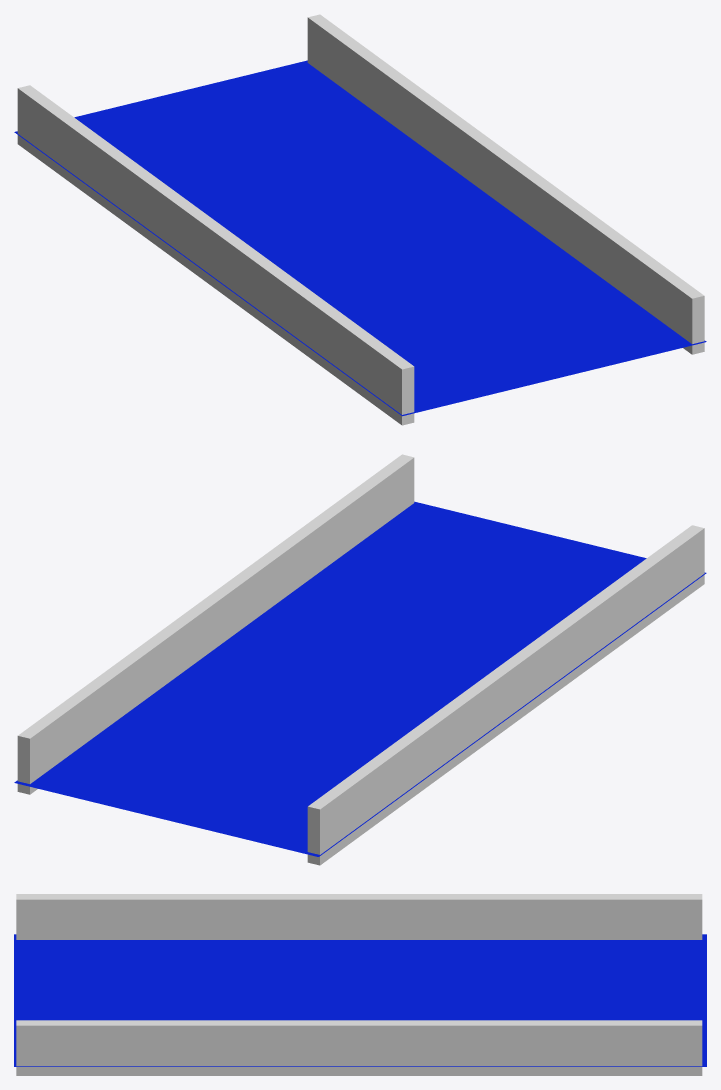
The model's file is MDL_E_LVL_Temple_06.fbx.
3 renders of one model, top to bottom at view 1: azimuth 30°, elevation 25°; view 2: azimuth 150°, elevation 25°; view 3: azimuth 270°, elevation 25°, orthographic. The views are drawn at different scales.
Parts seen in each view (by area): view 1: Plane.012; view 2: Plane.012; view 3: Plane.012.
Boxes of the visible parts, x1=… form: Plane.012: x1=14, y1=14, x2=706, y2=425; Plane.012: x1=14, y1=454, x2=706, y2=865; Plane.012: x1=14, y1=894, x2=706, y2=1075.
Size of the model in its own units: 1547 by 272 by 3414.
